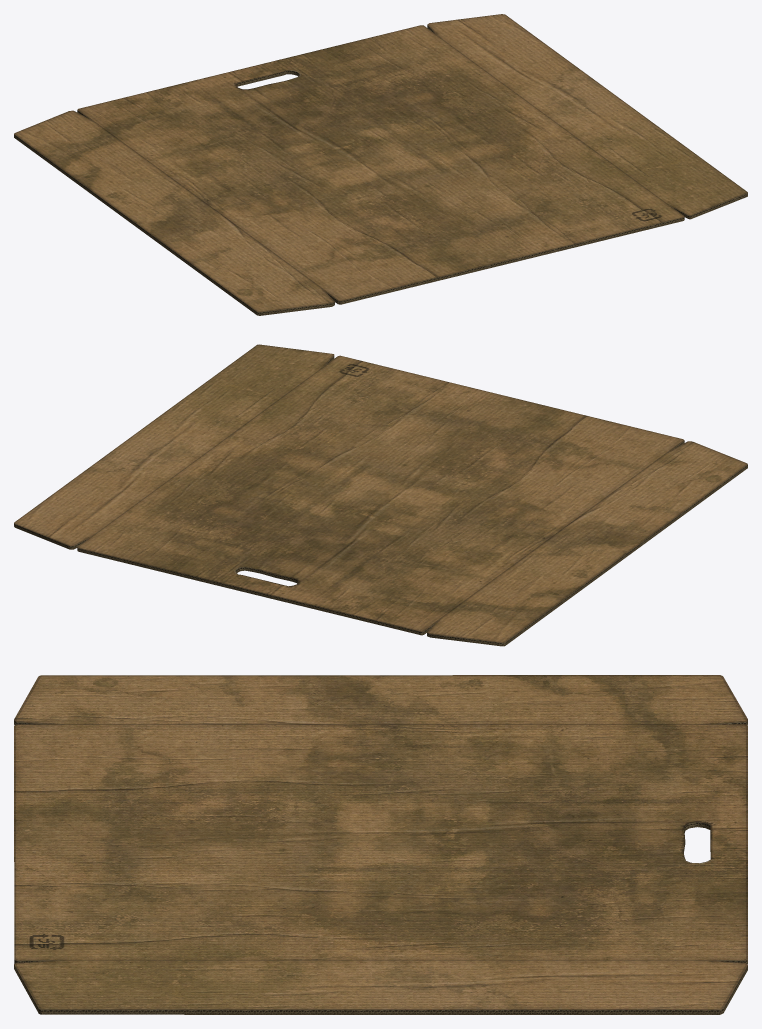
The model's file is flattened_box.dae.
3 views of the same model, one above another, from view 1: azimuth 30°, elevation 25°; view 2: azimuth 150°, elevation 25°; view 3: azimuth 270°, elevation 25° (orthographic). The views are drawn at different scales.
Parts seen in each view (by area): view 1: Mesh; view 2: Mesh; view 3: Mesh.
Part boxes in pixels (x1=…): Mesh: x1=14, y1=14, x2=747, y2=315; Mesh: x1=14, y1=344, x2=747, y2=646; Mesh: x1=14, y1=675, x2=747, y2=1014.
Bounding box in the file's own units: 1.46 × 0.0103 × 1.36.
